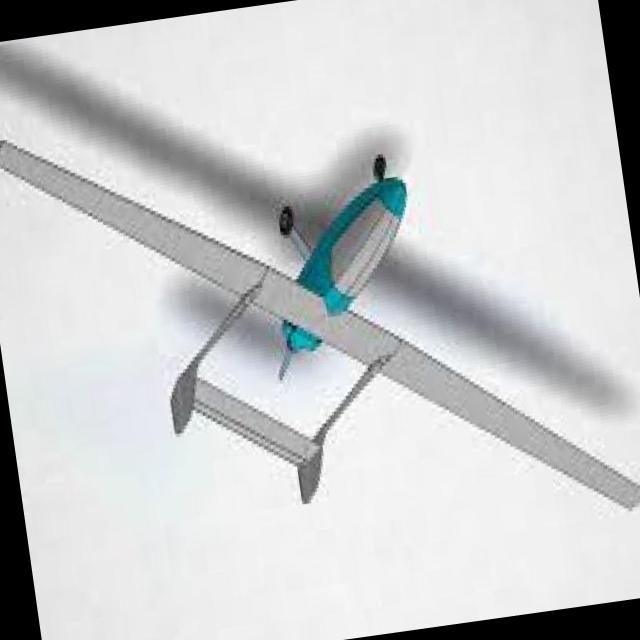UAV: (0, 48, 626, 620)
